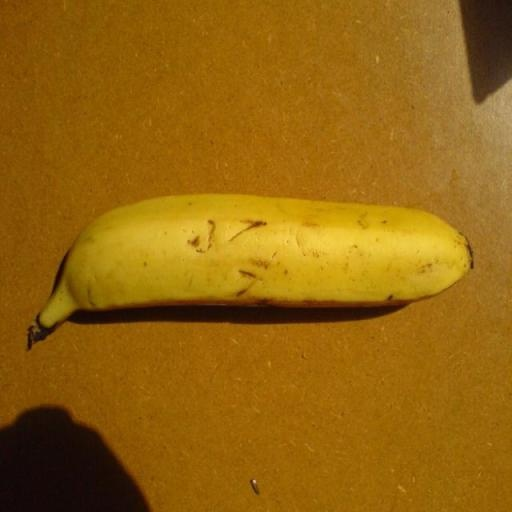fruit: (28, 195, 471, 345)
